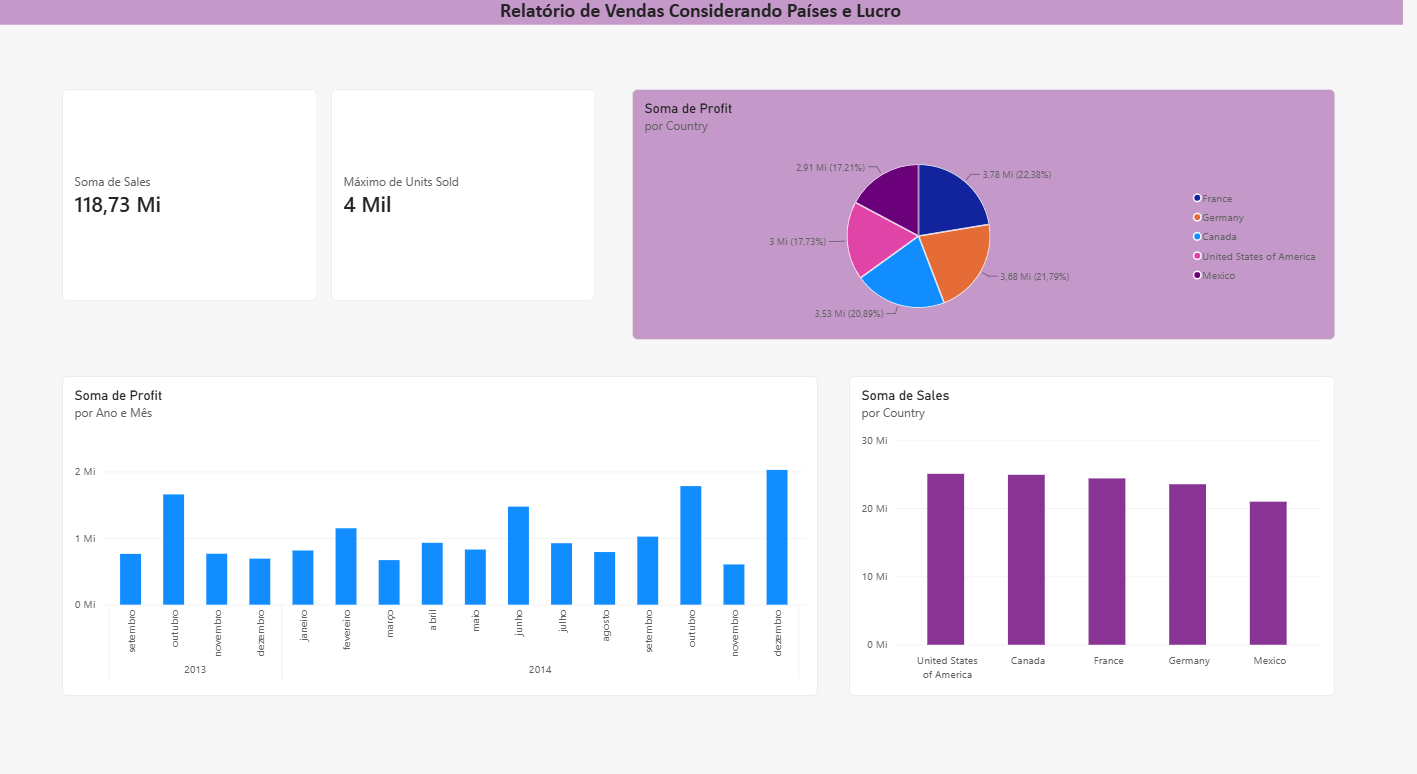

Layout of this report page (visuals, bound fields, positions):
{"tool":"powerbi","page":{"name":"Página 2","canvas":[1920,1080],"ordinal":1},"visuals":[{"type":"textbox","box":[0,31,1892,36.4],"z":0},{"type":"cardVisual","fields":{"Data":["Sum(financials. Sales)"]},"box":[86.2,153.5,344.7,285.5],"z":1000},{"type":"cardVisual","fields":{"Data":["Max(financials.Units Sold)"]},"box":[448.4,153.5,356.9,285.5],"z":1001},{"type":"pieChart","fields":{"Category":["financials.Country"],"Y":["Sum(financials.Profit)"]},"box":[853.8,153.5,946.7,338],"z":1002},{"type":"clusteredColumnChart","fields":{"Category":["financials.Date.Variation.Hierarquia de datas.Ano","financials.Date.Variation.Hierarquia de datas.Mês"],"Y":["Sum(financials.Profit)"]},"box":[86.2,540,1018.1,430.9],"z":1003},{"type":"clusteredColumnChart","fields":{"Category":["financials.Country"],"Y":["Sum(financials. Sales)"]},"box":[1146,540,654.5,430.9],"z":1004}]}

Visuals, with their boxes in screenshot pixels (x1, y1, x2, y2), scaled from the page's 1920x1080 canvas onto the 1417x774 screenshot:
textbox: x1=0, y1=22, x2=1396, y2=48
cardVisual - Sum(financials. Sales): x1=64, y1=110, x2=318, y2=315
cardVisual - Max(financials.Units Sold): x1=331, y1=110, x2=594, y2=315
pieChart - financials.Country x Sum(financials.Profit): x1=630, y1=110, x2=1329, y2=352
clusteredColumnChart - financials.Date.Variation.Hierarquia de datas.Ano x financials.Date.Variation.Hierarquia de datas.Mês: x1=64, y1=387, x2=815, y2=696
clusteredColumnChart - financials.Country x Sum(financials. Sales): x1=846, y1=387, x2=1329, y2=696
